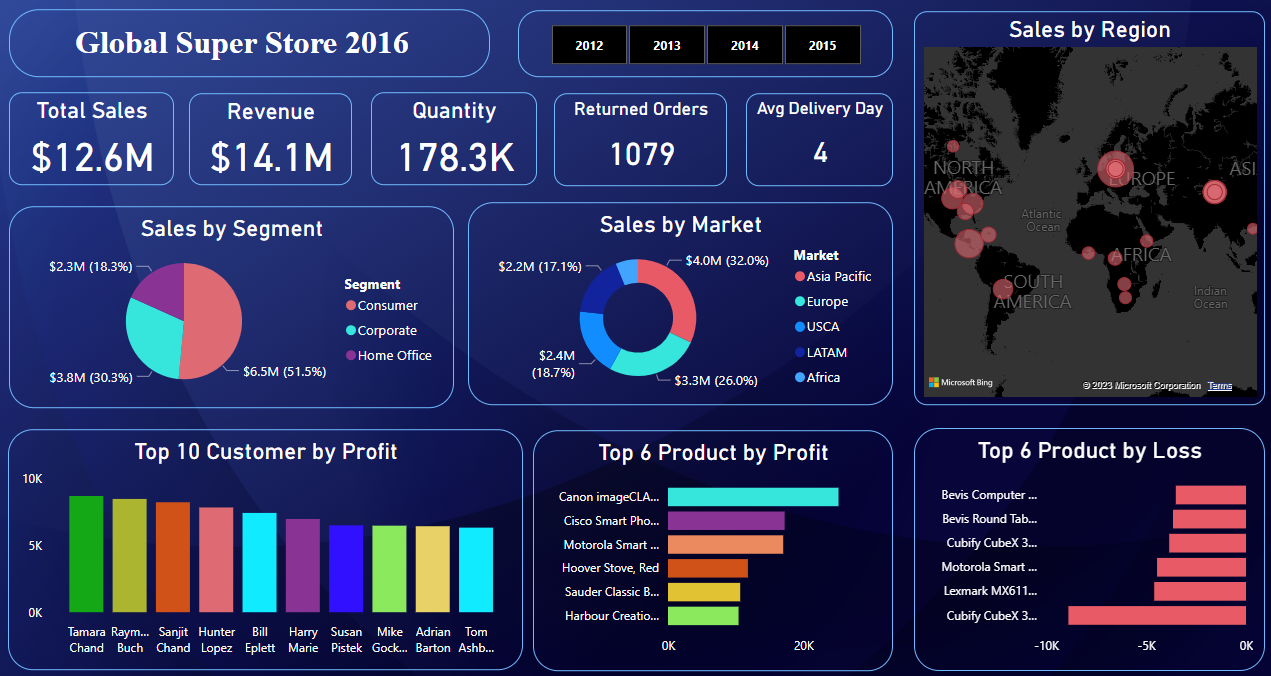

What the dashboard file says about the page in this screenshot:
{"tool":"powerbi","page":{"name":"Global Super Store 2016  ","canvas":[1280,720],"ordinal":0},"visuals":[{"type":"card","title":"Total Sales","fields":{"Values":["Sum(Orders.Sales)"]},"box":[15.8,105.9,165.2,92.7],"z":0},{"type":"card","title":"Revenue","fields":{"Values":["Orders.Revenue by adding"]},"box":[196.1,106.8,163.1,92.2],"z":1000},{"type":"card","title":"Quantity","fields":{"Values":["Sum(Orders.Quantity)"]},"box":[378.4,105.7,165.4,93.4],"z":2000},{"type":"card","title":"Avg Delivery Day","fields":{"Values":["Avg(Orders.Dilivery Day)"]},"box":[753,106.8,147.4,93.4],"z":3000},{"type":"map","title":"Sales by Region","fields":{"Category":["Orders.Region"],"Size":["Sum(Orders.Sales)"]},"box":[921.4,24.8,351,393.8],"z":4000},{"type":"card","title":"Returned Orders","fields":{"Values":["Sum(Returns.Returned Orders)"]},"box":[560.6,106.8,173.2,93.4],"z":5000},{"type":"slicer","fields":{"Values":["Orders.Order Date.Variation.Date Hierarchy.Year"]},"box":[524.6,24.4,375.8,66.4],"z":6000},{"type":"pieChart","title":"Sales by Segment","fields":{"Category":["Orders.Segment"],"Y":["Sum(Orders.Sales)"]},"box":[15.7,219.5,445.5,202.5],"z":7000},{"type":"donutChart","title":"Sales by Market","fields":{"Y":["Sum(Orders.Sales)"],"Category":["Orders.Market"]},"box":[474.7,216.1,425.2,202.5],"z":8000},{"type":"columnChart","title":"Top 10 Customer by Profit","fields":{"Category":["Orders.Customer Name"],"Y":["Sum(Orders.Profit)"]},"box":[14.6,443.4,515.2,240.8],"z":9000},{"type":"barChart","title":"Top 6 Product by Profit ","fields":{"Category":["Orders.Product Name"],"Y":["Sum(Orders.Profit)"]},"box":[539.8,443.8,359.9,241.4],"z":10000},{"type":"barChart","title":"Top 6 Product by Loss","fields":{"Category":["Orders.Product Name"],"Y":["Sum(Orders.Profit)"]},"box":[921.4,442.2,351,243],"z":11000},{"type":"textbox","box":[16.1,23.3,480.4,67.5],"z":12000}]}

Visuals, with their boxes on the page's 1280x720 design canvas (x1, y1, x2, y2). These are canvas units, not pixel positions in the 1271x676 screenshot, which may show the page scaled, cropped or inside an application window:
"Total Sales" card: bbox(16, 106, 181, 199)
"Revenue" card: bbox(196, 107, 359, 199)
"Quantity" card: bbox(378, 106, 544, 199)
"Avg Delivery Day" card: bbox(753, 107, 900, 200)
"Sales by Region" map: bbox(921, 25, 1272, 419)
"Returned Orders" card: bbox(561, 107, 734, 200)
slicer - Orders.Order Date.Variation.Date Hierarchy.Year: bbox(525, 24, 900, 91)
"Sales by Segment" pieChart: bbox(16, 220, 461, 422)
"Sales by Market" donutChart: bbox(475, 216, 900, 419)
"Top 10 Customer by Profit" columnChart: bbox(15, 443, 530, 684)
"Top 6 Product by Profit " barChart: bbox(540, 444, 900, 685)
"Top 6 Product by Loss" barChart: bbox(921, 442, 1272, 685)
textbox: bbox(16, 23, 496, 91)
